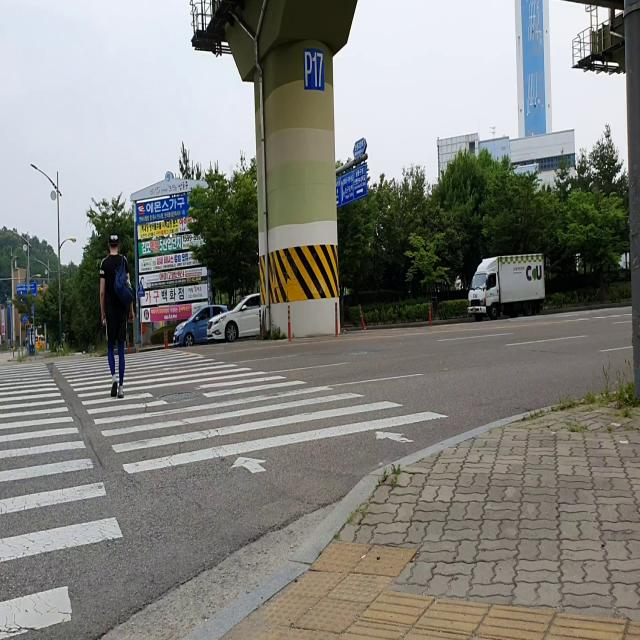횡단보도: (0, 342, 451, 640)
